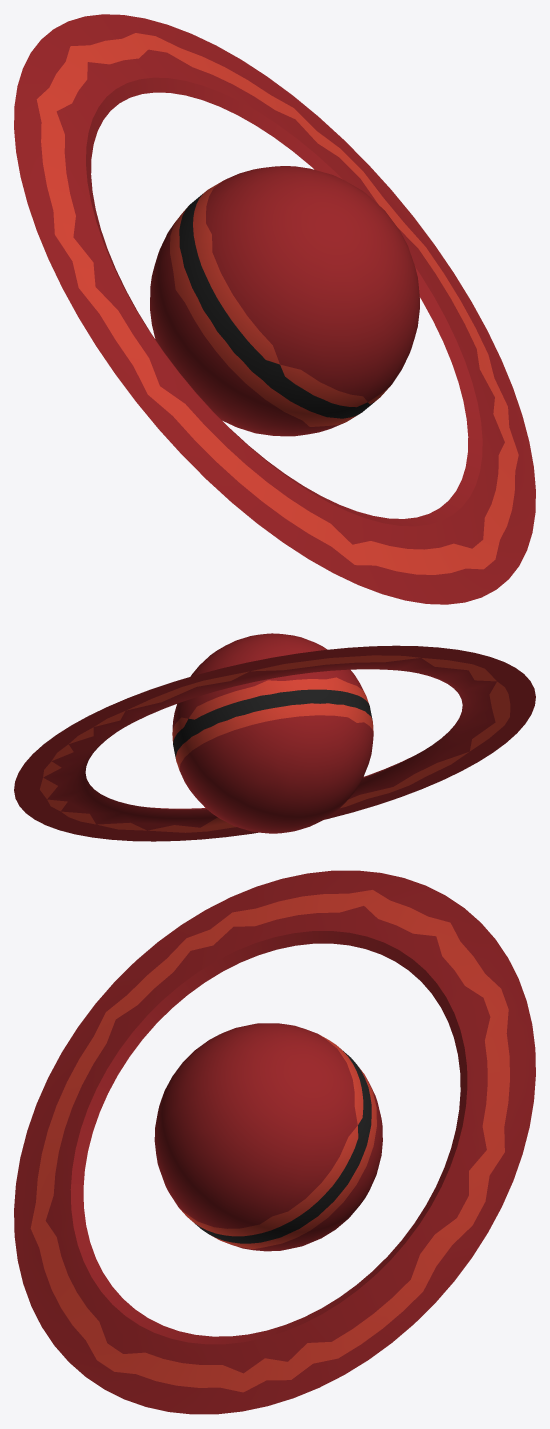
The model's file is Planet_10-transformed.glb.
The picture shows the model from 3 angles, top to bottom: view 1: azimuth 30°, elevation 25°; view 2: azimuth 150°, elevation 25°; view 3: azimuth 270°, elevation 25°; orthographic projection. The views are drawn at different scales.
Parts seen in each view (by area): view 1: Planet_10; view 2: Planet_10; view 3: Planet_10.
Boxes of the visible parts, x1,y1,x2,y2 form: Planet_10: [14, 14, 535, 604]; Planet_10: [14, 633, 535, 841]; Planet_10: [14, 870, 535, 1414].
Bounding box in the file's own units: 5.74 × 4.68 × 5.74.
1 material, 1 textured.
